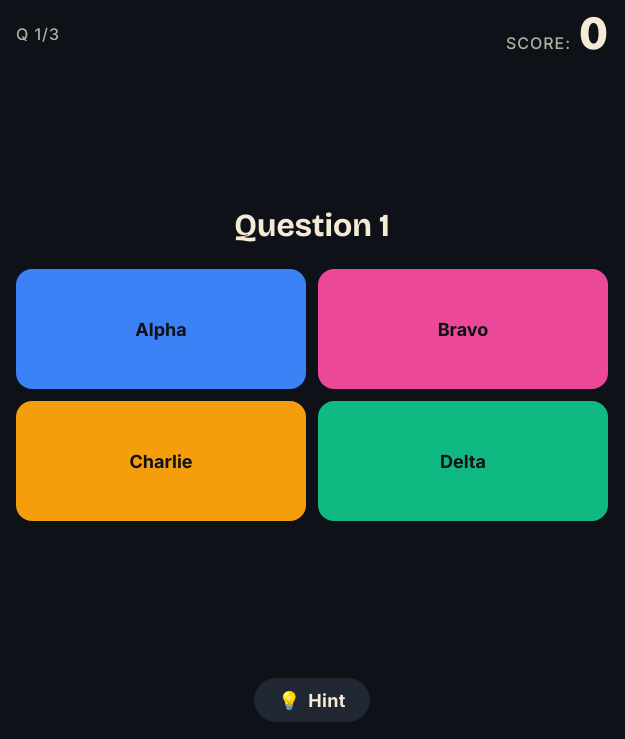
Scenario: GameScreen › transition to feedback phase › feedback overlay shows wrong verdict + 0 points for a wrong answer
Click the button "Bravo".
click(463, 329)  # box [318,269,608,389]
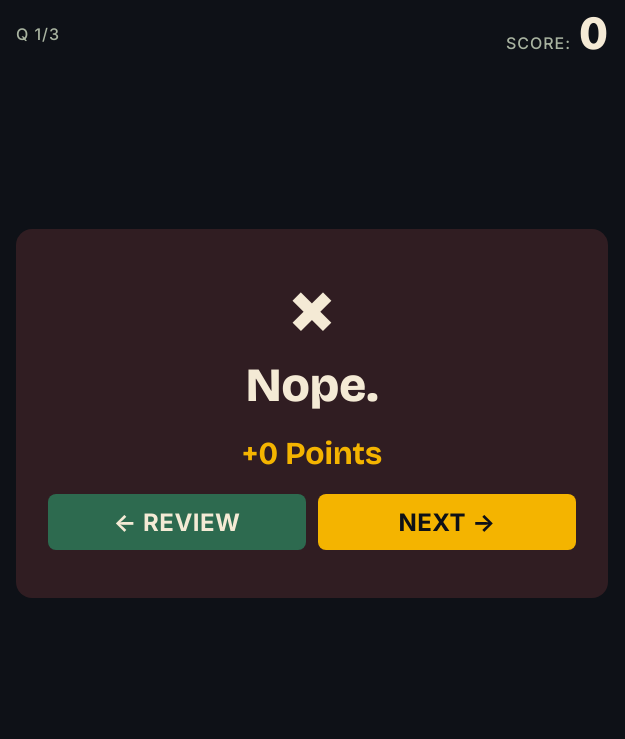
Expected: the icon "✗" is shown, [284,277,340,341]
Expected: the text "+0 Points" is shown, [242,430,382,478]
